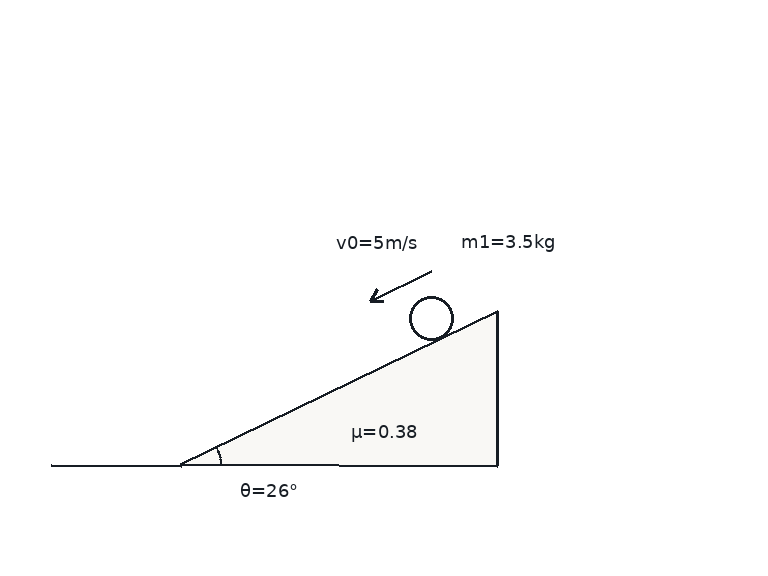ball: (407, 294, 455, 342)
ramp: (179, 309, 498, 467)
